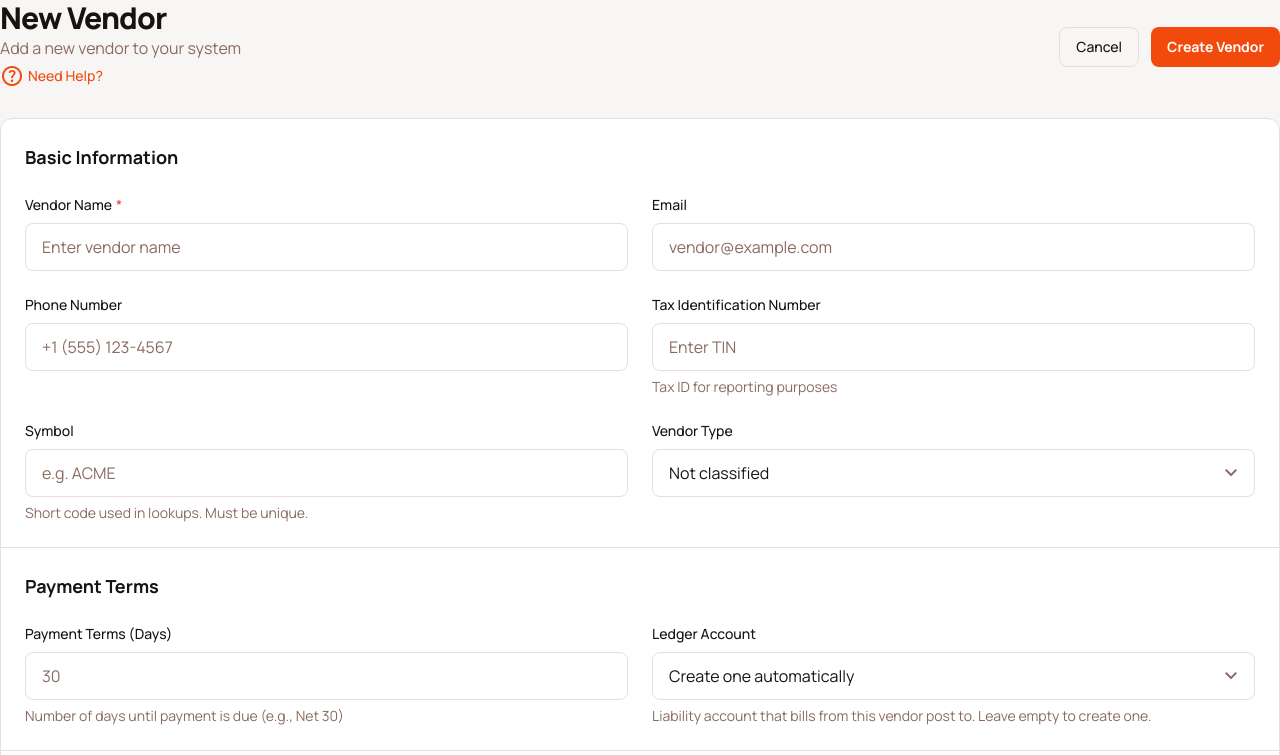
Test: VendorFormPage module-aware errors (SOUPFIN-160) › save › explains a server fault instead of the HTTP status
The width and height of the screenshot is (1280, 755).
Type "Acme Supplies" into the field with test id "vendor-form-name".
click(326, 247); type("Acme Supplies")  # box x1=25 y1=223 x2=628 y2=271
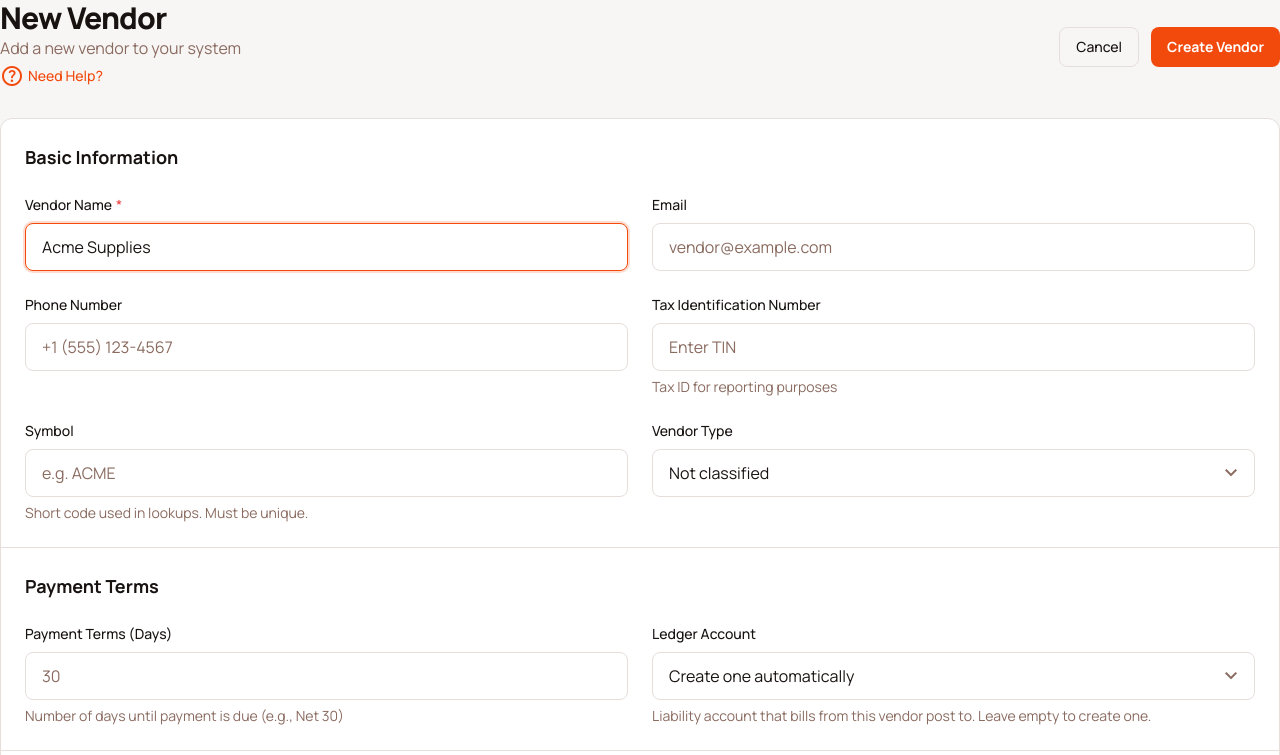
Click the button with test id "vendor-form-save".
click(1216, 47)  # box x1=1151 y1=27 x2=1279 y2=67
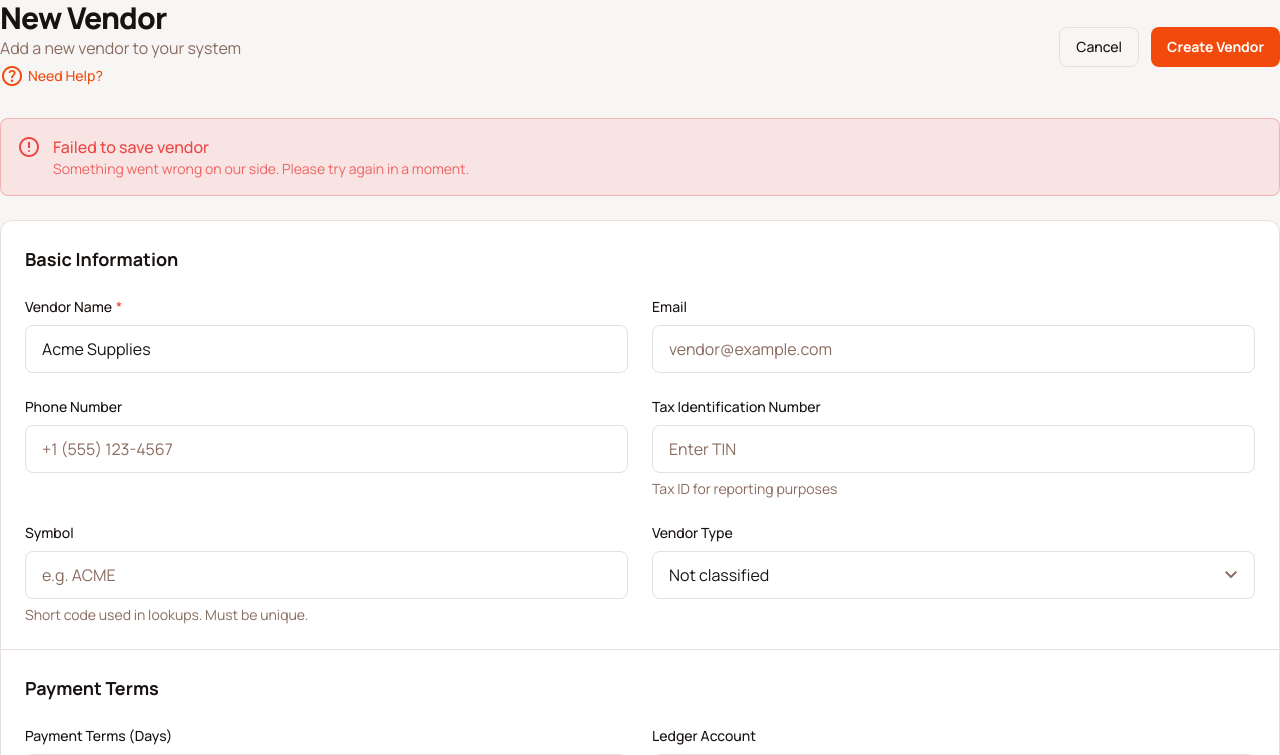
Expected: the element with test id "vendor-form-error" does not show "status code", x1=0 y1=118 x2=1279 y2=196
Expected: the element with test id "vendor-form-error" shows "Failed to save vendor", x1=53 y1=136 x2=209 y2=158
Expected: the element with test id "vendor-form-error" shows "Something went wrong on our side", x1=53 y1=159 x2=469 y2=178
